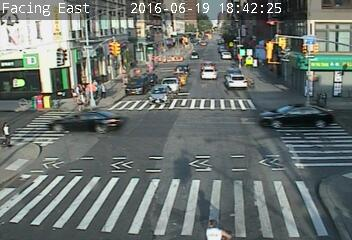neg: (113, 154, 141, 191), (23, 42, 49, 77), (178, 129, 203, 163), (276, 157, 301, 190), (167, 29, 191, 61), (263, 83, 286, 113), (221, 151, 242, 181), (74, 109, 95, 137), (28, 176, 48, 202), (36, 91, 55, 117), (304, 73, 323, 98), (132, 66, 150, 90), (232, 73, 250, 97), (222, 33, 239, 56), (156, 85, 173, 107), (67, 170, 83, 191), (264, 32, 280, 52), (306, 35, 318, 51)
pos: (2, 119, 24, 147)
